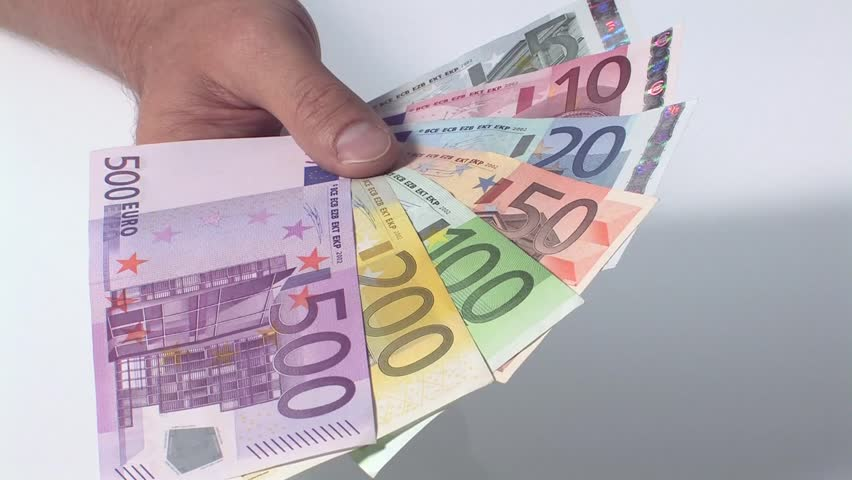billete: (87, 131, 380, 480), (239, 163, 494, 480), (342, 162, 588, 480), (384, 139, 662, 388), (384, 96, 703, 271), (370, 18, 689, 132), (361, 1, 637, 121)
